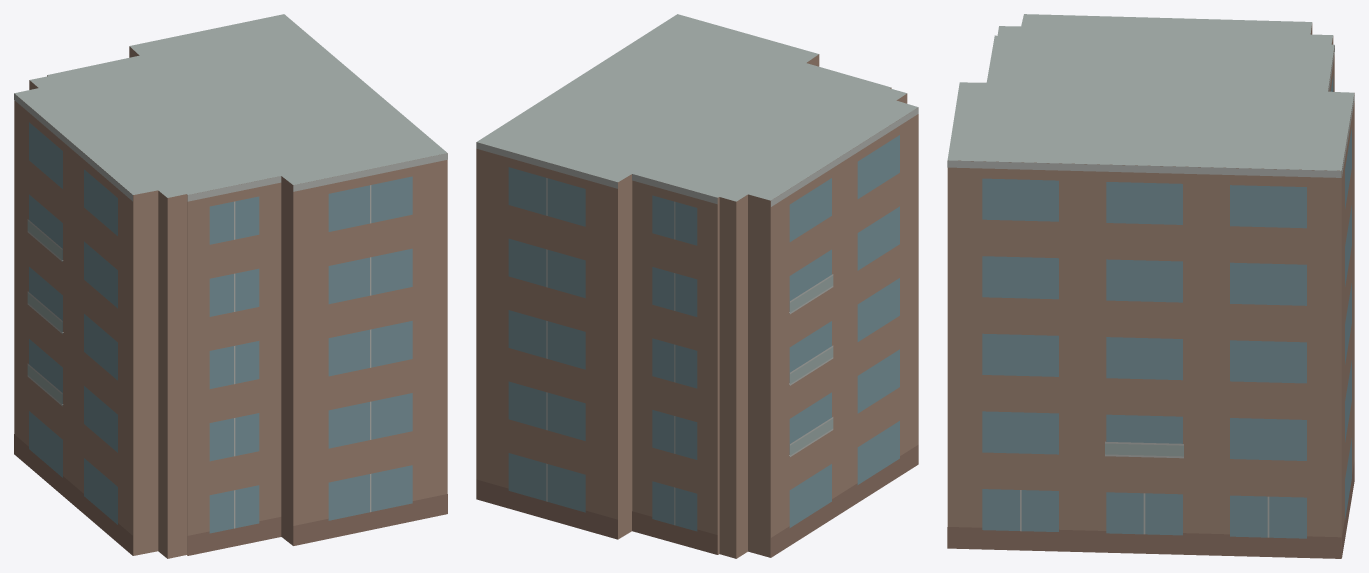
The model's file is survey-upis-32711436.glb.
The picture shows the model from 3 angles, left to right: view 1: azimuth 30°, elevation 25°; view 2: azimuth 150°, elevation 25°; view 3: azimuth 270°, elevation 25°; orthographic projection. The views are drawn at different scales.
Parts seen in each view (by area): view 1: survey-upis-32711436.tmp; view 2: survey-upis-32711436.tmp; view 3: survey-upis-32711436.tmp.
Part boxes in pixels (box(x1,y1,x2,y2)): survey-upis-32711436.tmp: box(14, 14, 447, 558); survey-upis-32711436.tmp: box(476, 14, 918, 558); survey-upis-32711436.tmp: box(947, 14, 1354, 558).
Bounding box in the file's own units: 11.49 × 13.25 × 12.61.
